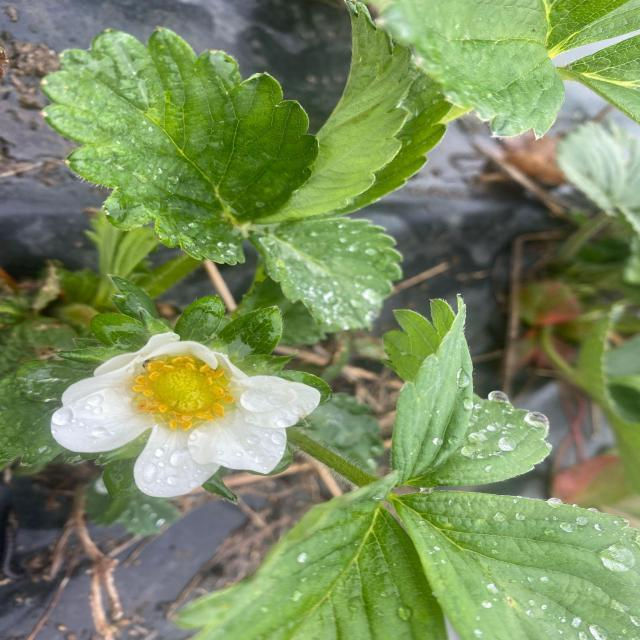flower: (42, 331, 327, 505)
